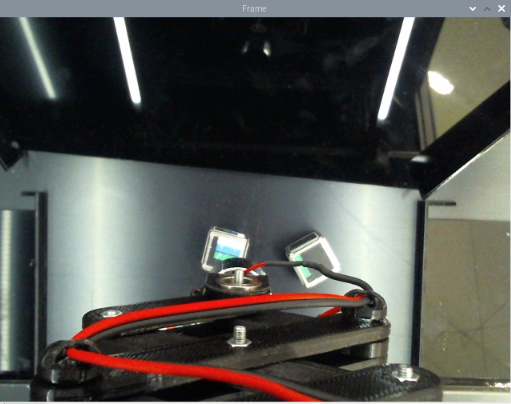Cube: (283, 233, 345, 291), (200, 225, 251, 277)
